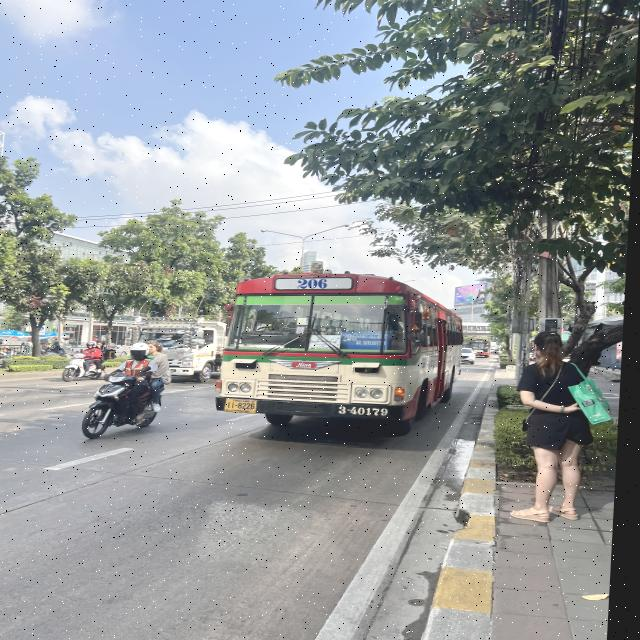BMTA-bus: (217, 271, 469, 433), (470, 339, 496, 359)
Bus-Line-Number: (294, 277, 338, 291)
Destination-Sign-Normal: (344, 331, 394, 350)
